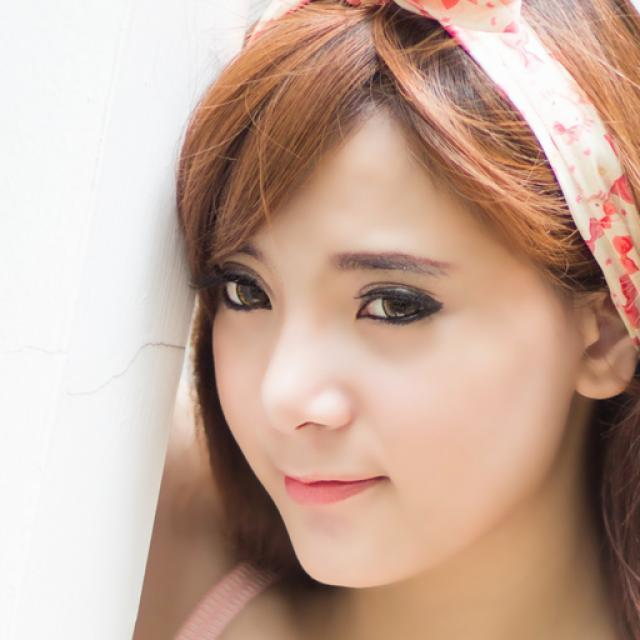neutral: (210, 106, 576, 589)
